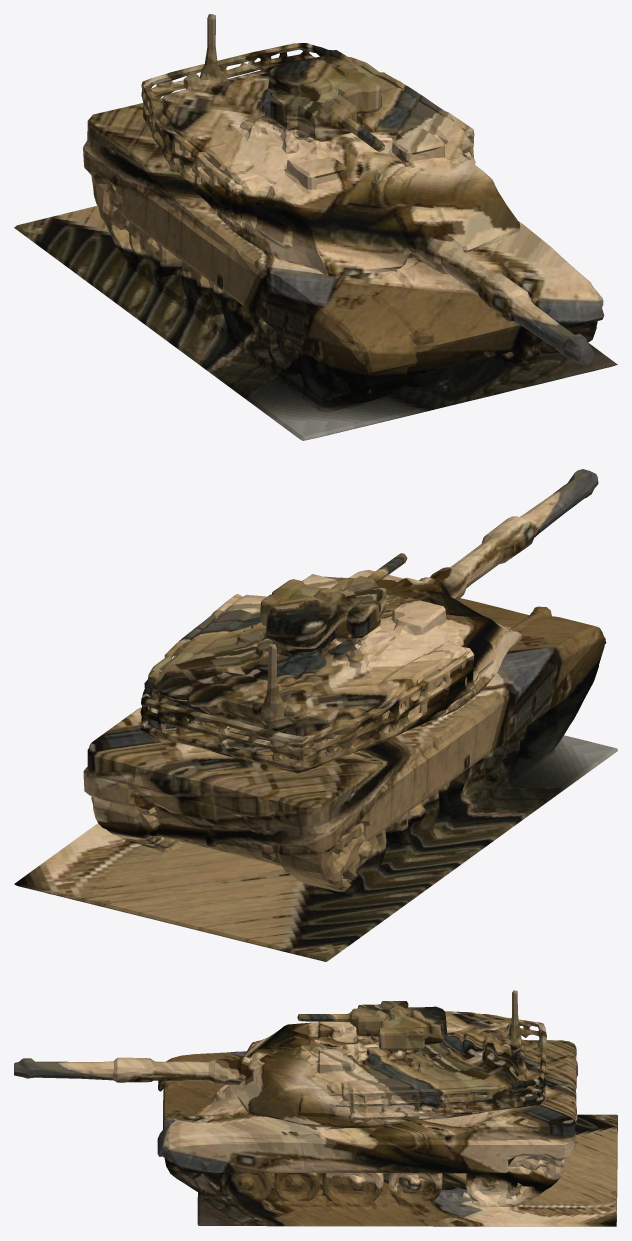
File: tank.glb
The picture shows the model from 3 angles, top to bottom: view 1: azimuth 30°, elevation 25°; view 2: azimuth 150°, elevation 25°; view 3: azimuth 270°, elevation 25°; orthographic projection. The views are drawn at different scales.
Parts seen in each view (by area): view 1: geometry_0; view 2: geometry_0; view 3: geometry_0.
Part boxes in pixels (x1=…): geometry_0: x1=14, y1=14, x2=617, y2=440; geometry_0: x1=14, y1=469, x2=617, y2=961; geometry_0: x1=14, y1=990, x2=617, y2=1226.
Size of the model in its own units: 3.94 by 2.81 by 9.
1 material, 1 textured.
